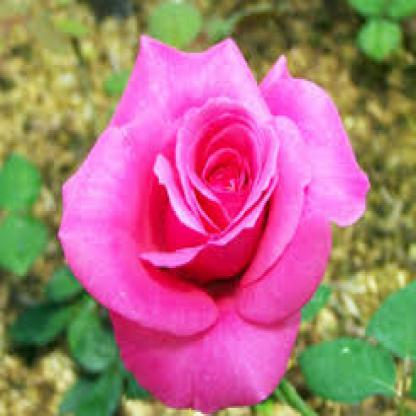Rose-Mawar: (55, 27, 370, 403)
